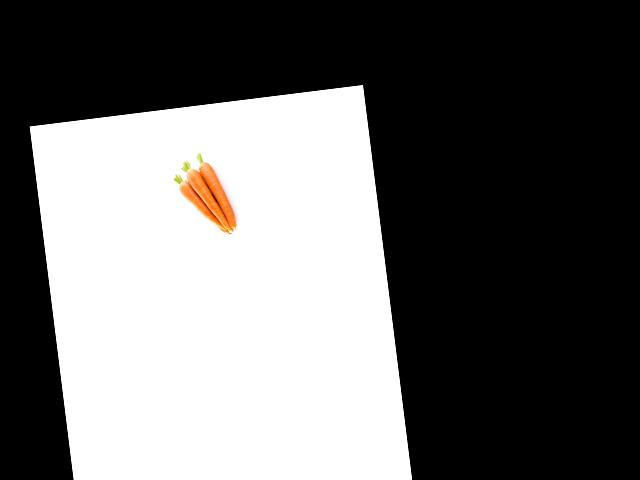carrot: (195, 152, 238, 231)
